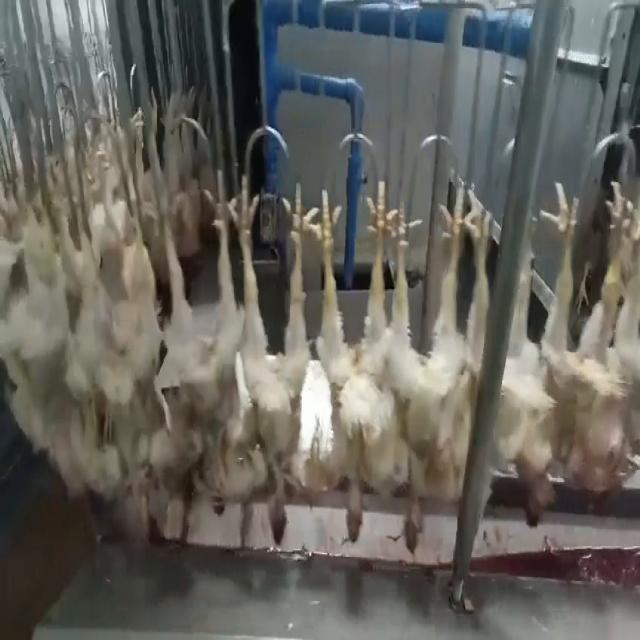chicken: (383, 176, 469, 560), (235, 173, 317, 554), (151, 161, 233, 528), (506, 183, 586, 532), (318, 185, 394, 544), (563, 181, 639, 501), (447, 178, 496, 509)
